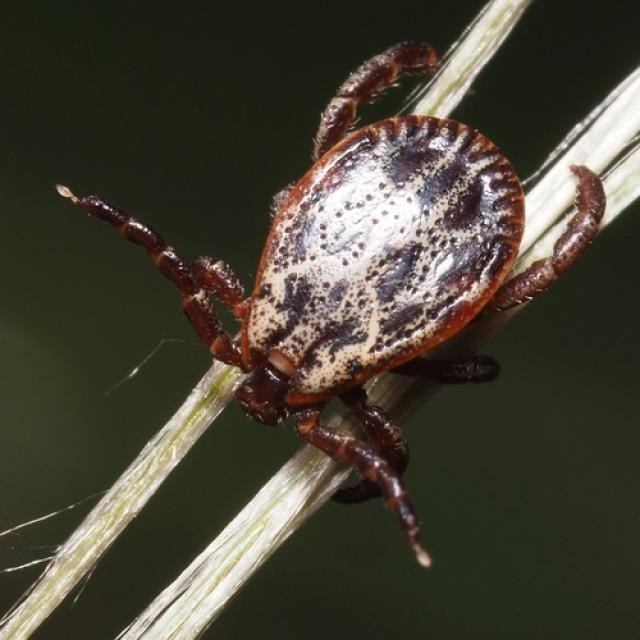Dermacentor Reticulatus-M: (56, 42, 612, 568)
